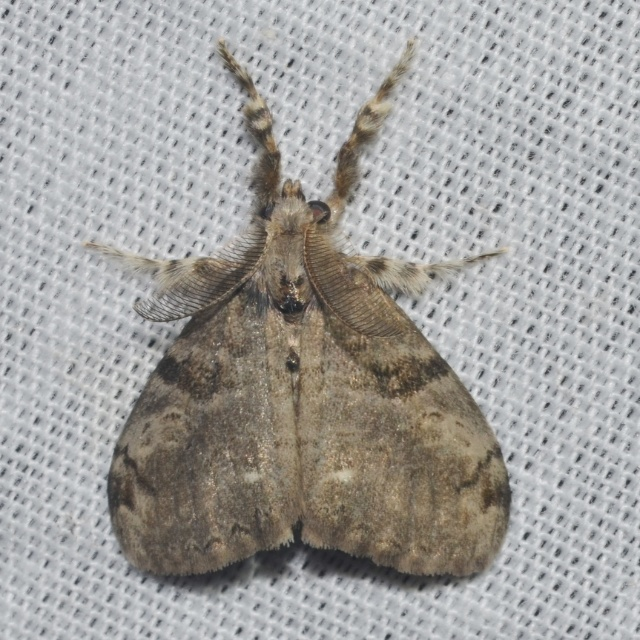Moths and butterflies: (84, 36, 511, 584)
